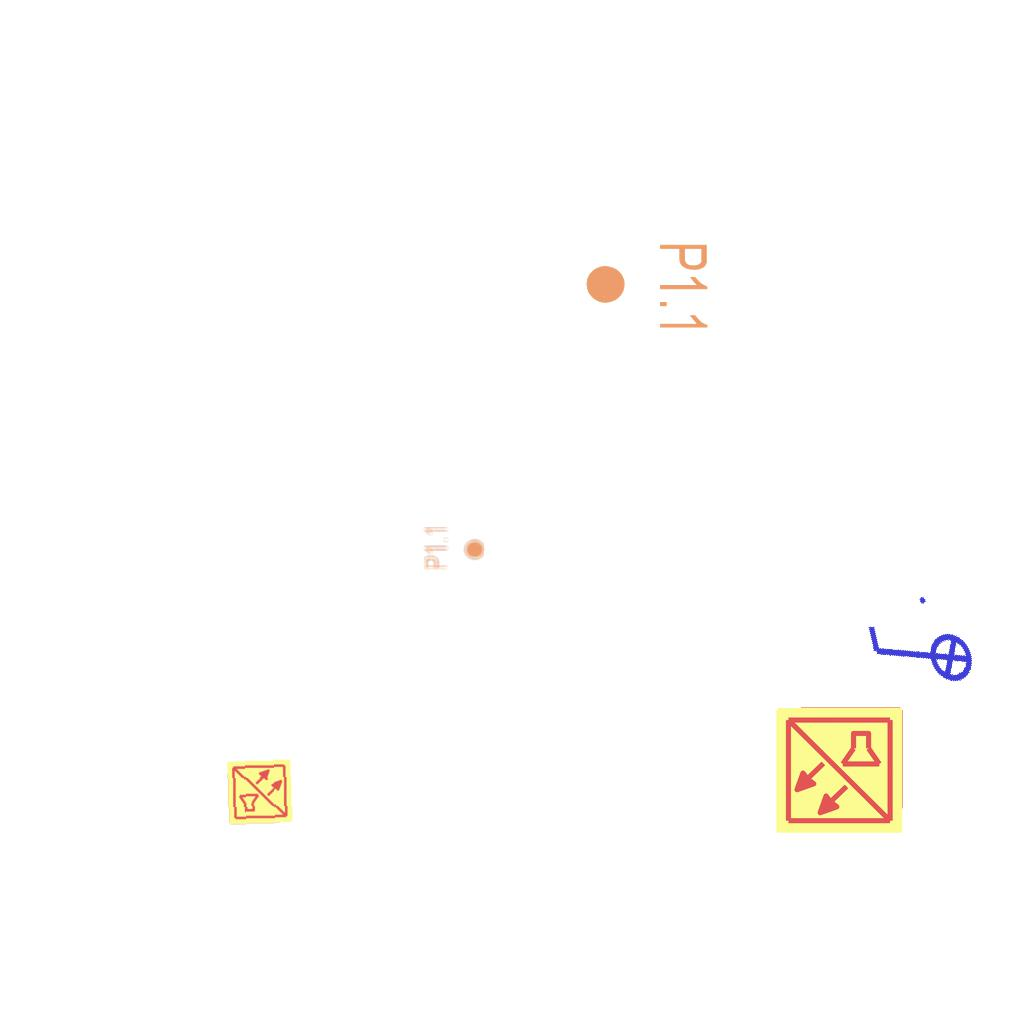Ausschalter_beleuchtet: (851, 582, 989, 726)
Downlight_LED_Einbauleuchten_Flur: (583, 241, 711, 334), (422, 525, 486, 571)
OKW_Multisensormelder_(Kombination_optischer_Rauch-Kahlenmonoxid_Waerme-Melder): (773, 704, 905, 836), (225, 757, 295, 827)
